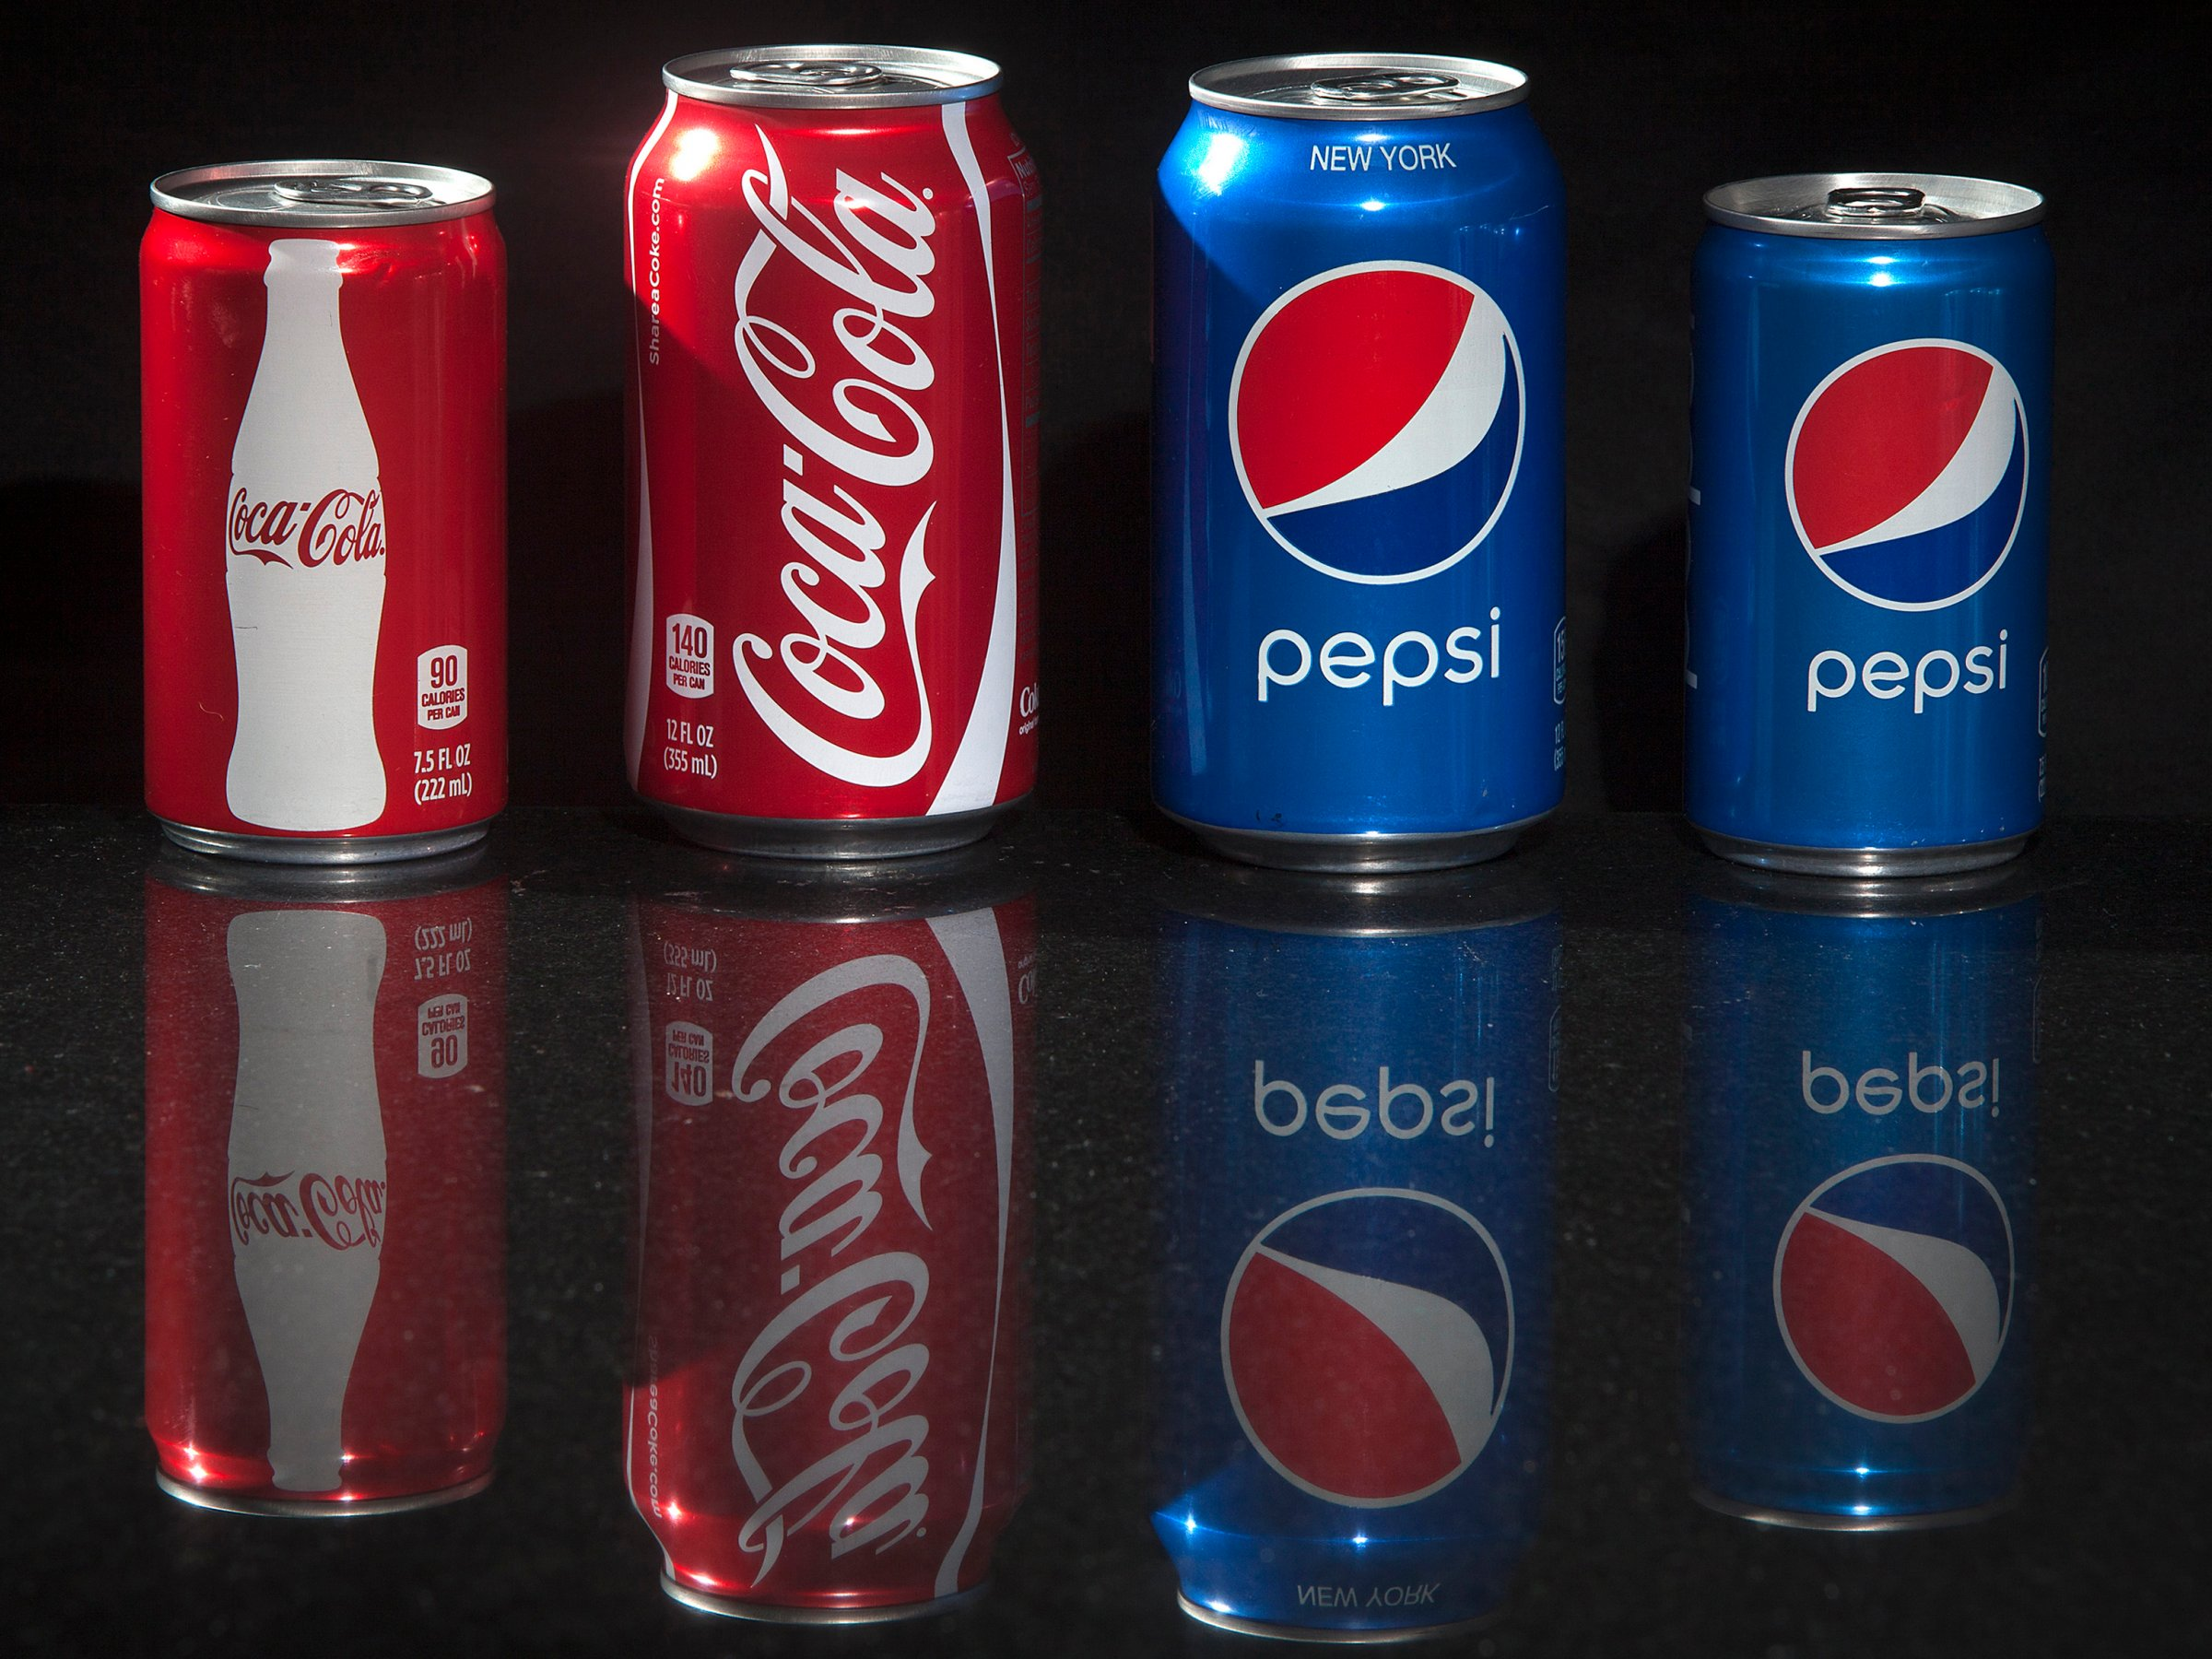pepsi: (1237, 253, 1526, 586), (1223, 1192, 1510, 1513), (1782, 338, 2033, 619), (1771, 1152, 2017, 1422)
